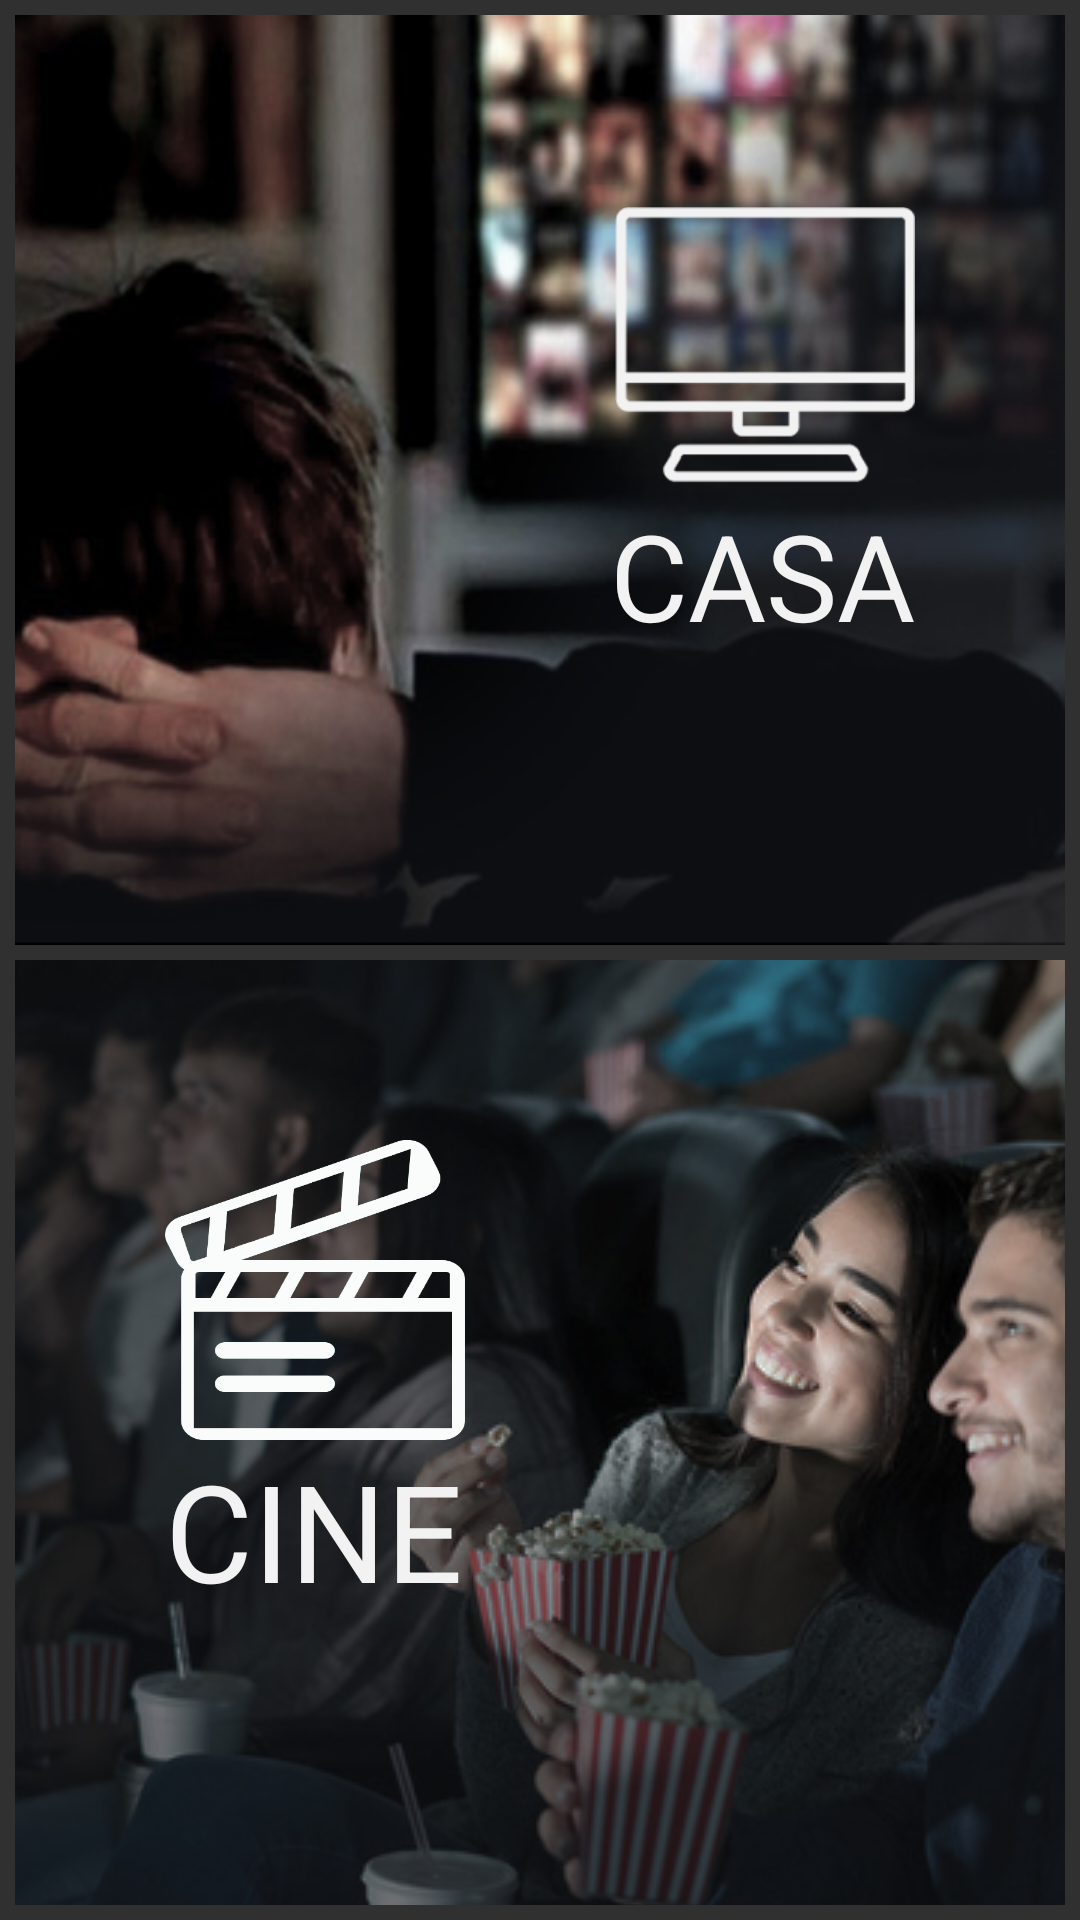

Icons on this 1080w x 1920h Android screen, each with the point to tap as point (x, y):
compu: point (765, 345)
